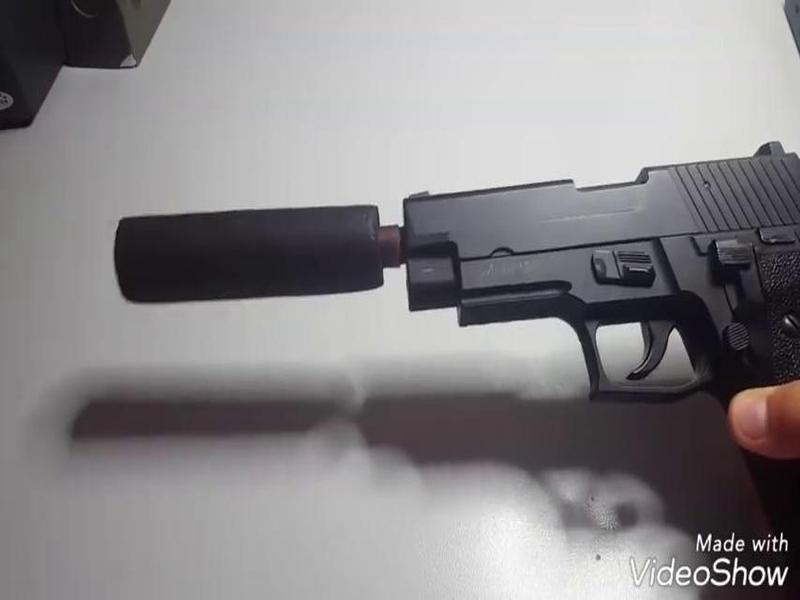Pistola: (406, 135, 800, 527)
